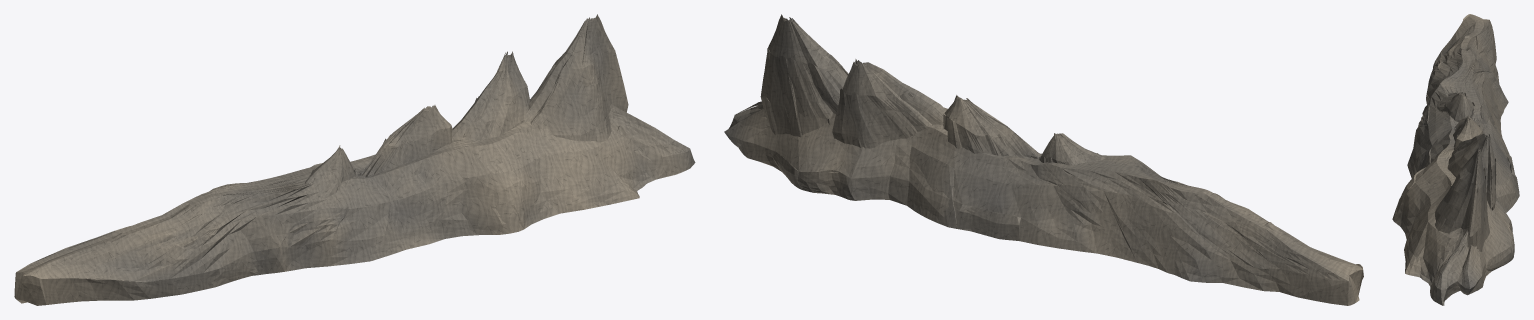
The picture shows the model from 3 angles, left to right: view 1: azimuth 30°, elevation 25°; view 2: azimuth 150°, elevation 25°; view 3: azimuth 270°, elevation 25°; orthographic projection. The views are drawn at different scales.
Visible parts, largest first — view 1: F10_stone; view 2: F10_stone; view 3: F10_stone.
Boxes of the visible parts, x1=… form: F10_stone: x1=14, y1=14, x2=695, y2=305; F10_stone: x1=724, y1=14, x2=1363, y2=305; F10_stone: x1=1392, y1=14, x2=1519, y2=305.
Size of the model in its own units: 35.74 by 7.96 by 7.26.
1 material, 1 textured.
